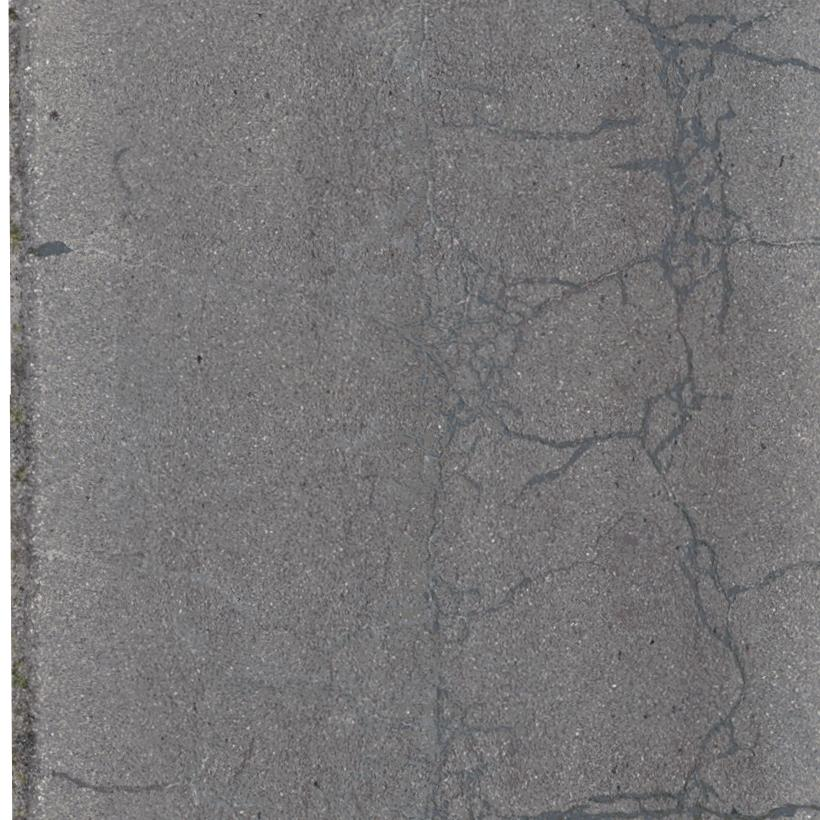GRIETA: (640, 391, 727, 593), (678, 559, 747, 784), (488, 514, 625, 613), (652, 303, 703, 461), (512, 443, 593, 504), (472, 115, 639, 141), (725, 562, 819, 601), (725, 46, 819, 73), (52, 772, 170, 793), (581, 255, 655, 287), (511, 431, 639, 447), (421, 492, 439, 563), (618, 0, 653, 28), (759, 803, 819, 819), (736, 237, 819, 248), (718, 274, 733, 334)
PIEL DE COCODRILO: (394, 197, 584, 490), (152, 571, 413, 715), (648, 10, 742, 302), (324, 463, 421, 580), (416, 686, 492, 809), (342, 0, 421, 112), (531, 781, 759, 819), (418, 563, 487, 673)
